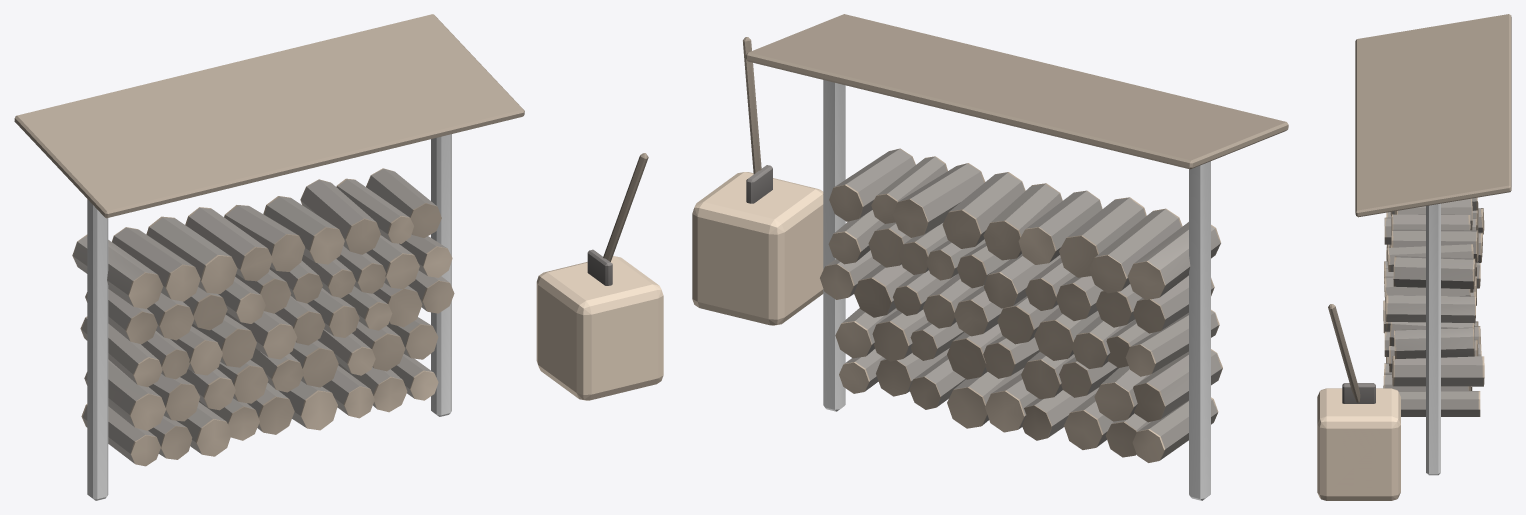
The model's file is woodpile.glb.
3 renders of one model, left to right at view 1: azimuth 30°, elevation 25°; view 2: azimuth 150°, elevation 25°; view 3: azimuth 270°, elevation 25°, orthographic. The views are drawn at different scales.
Parts seen in each view (by area): view 1: axe_haft; view 2: axe_haft; view 3: axe_haft.
Boxes of the visible parts, x1=… form: axe_haft: x1=14, y1=14, x2=663, y2=500; axe_haft: x1=692, y1=14, x2=1288, y2=500; axe_haft: x1=1317, y1=14, x2=1511, y2=500.
Bounding box in the file's own units: 2.83 × 1.79 × 1.04.
